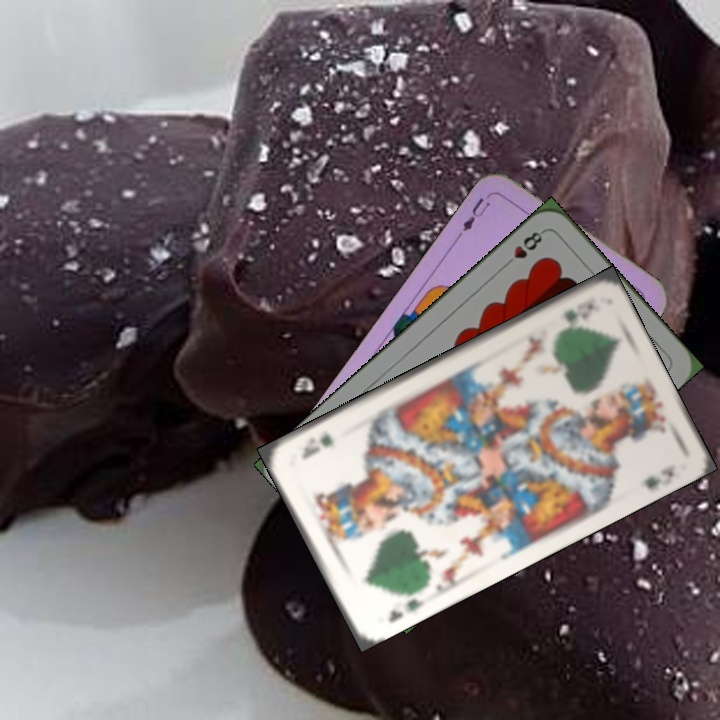EU: (454, 190, 495, 240)
GK: (384, 595, 428, 625), (558, 298, 596, 326)
H8: (499, 226, 547, 271)
